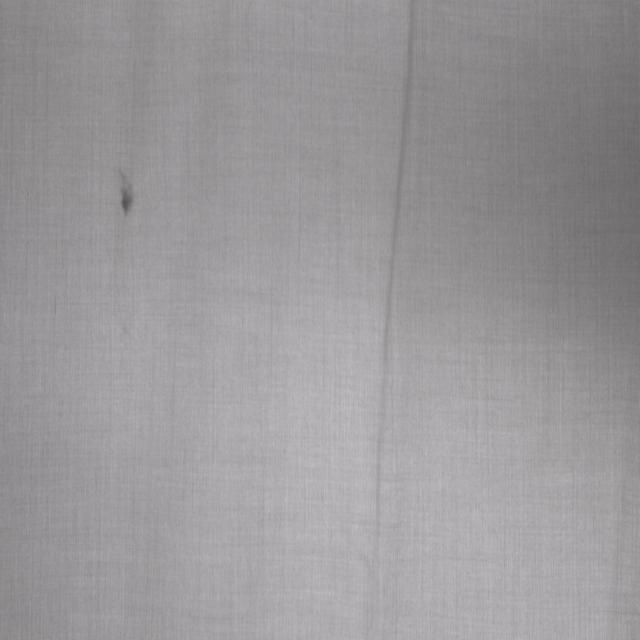dirty: (119, 174, 133, 215)
